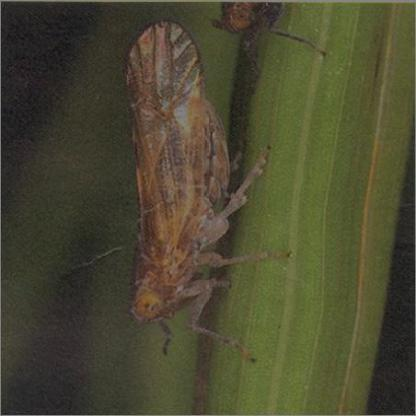brown-planthopper: (123, 19, 231, 329)
